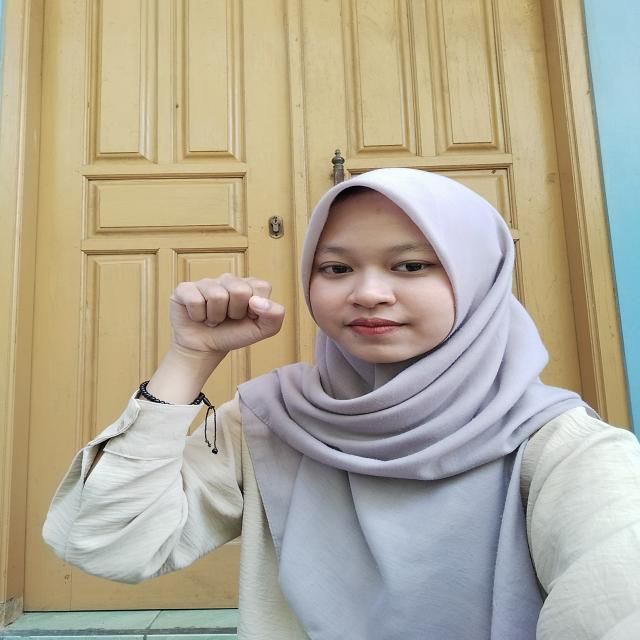baik: (133, 264, 297, 424)
